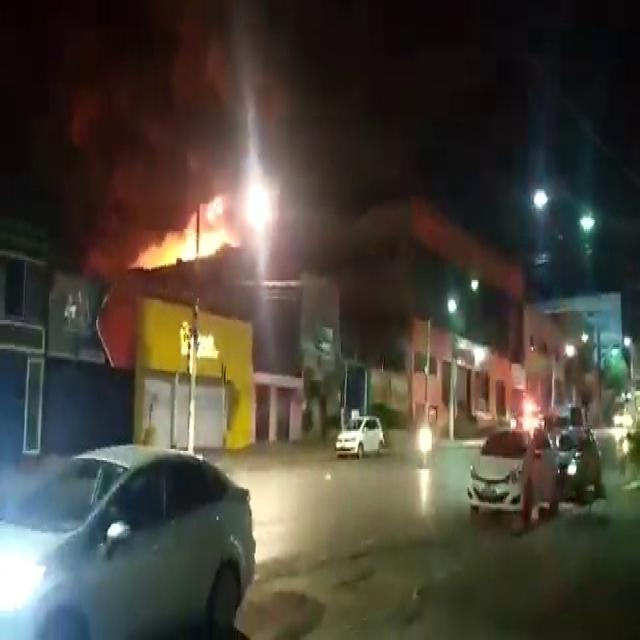Fire: (119, 196, 234, 271)
Smoke: (30, 0, 331, 271)
